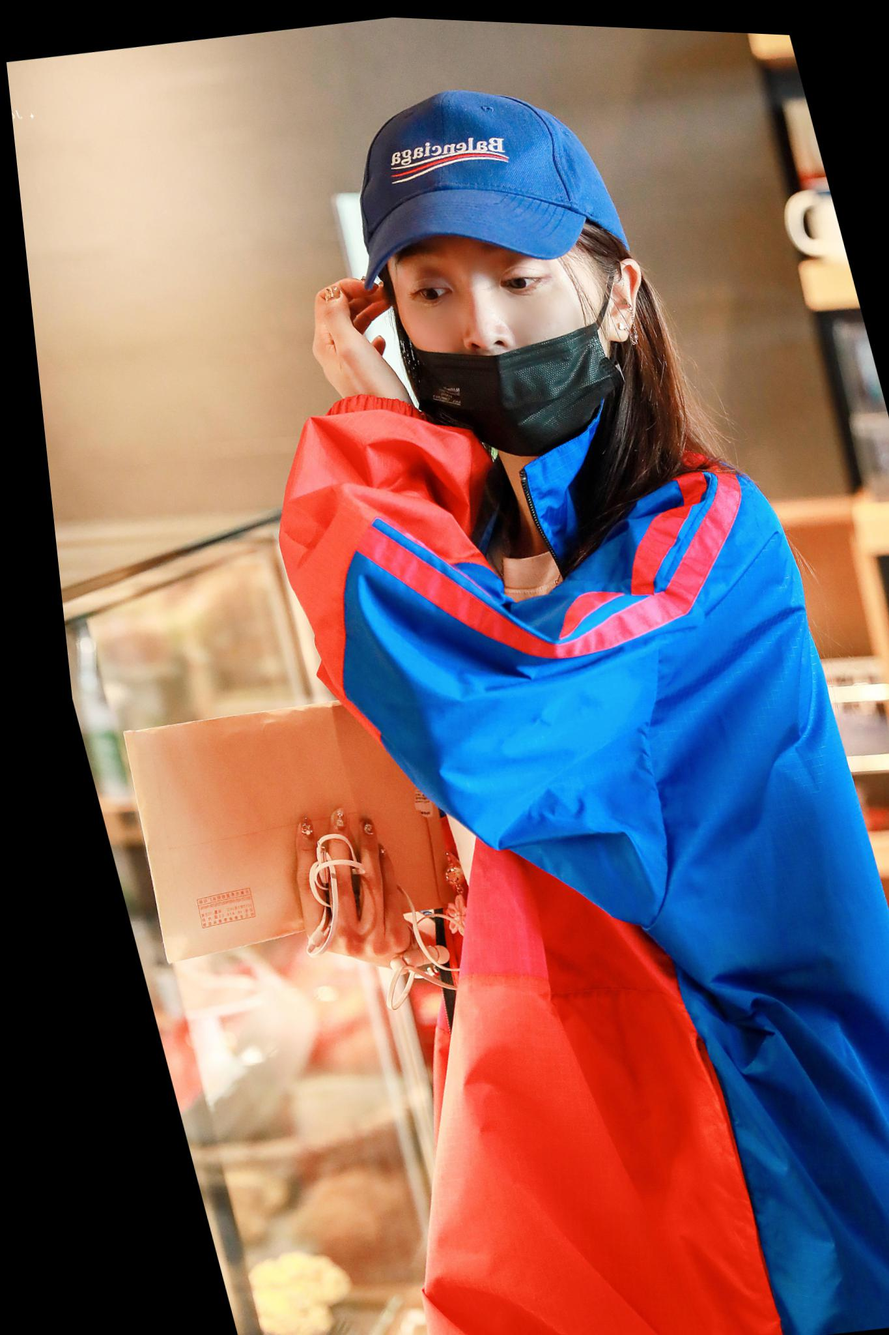WRONG: (357, 187, 631, 475)
